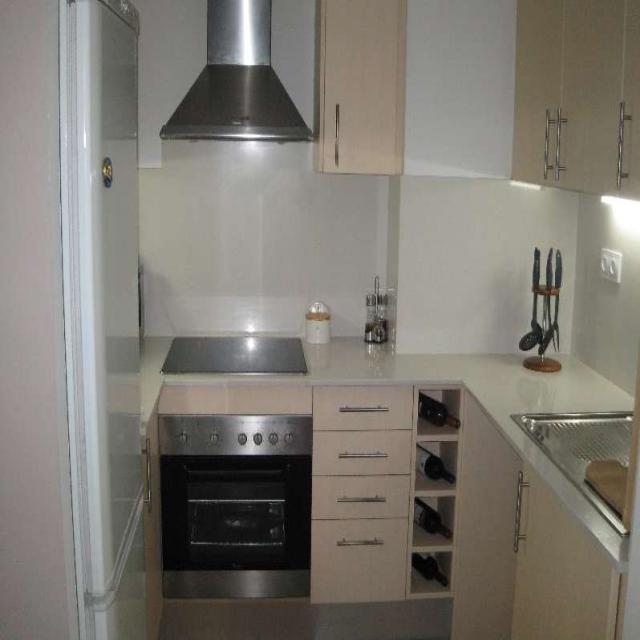2015: (416, 443, 455, 485), (419, 388, 458, 430), (415, 497, 452, 537), (411, 552, 448, 585)
drawer handle: (312, 516, 408, 604), (314, 472, 411, 520), (313, 383, 414, 429), (314, 431, 409, 475)
extractor hood: (157, 1, 309, 143)
fridge crop: (3, 5, 148, 635)
handle bar: (613, 103, 630, 189), (539, 100, 556, 182), (552, 105, 561, 178), (339, 407, 388, 413)
kitchen worktop: (509, 239, 581, 380)
oven cloth: (159, 415, 311, 597)
salt_pepper: (358, 271, 395, 348)
sink basin: (508, 410, 629, 532)
stove burner: (161, 327, 307, 380)
switch: (601, 248, 620, 284)
vent -x: (152, 6, 320, 146)
